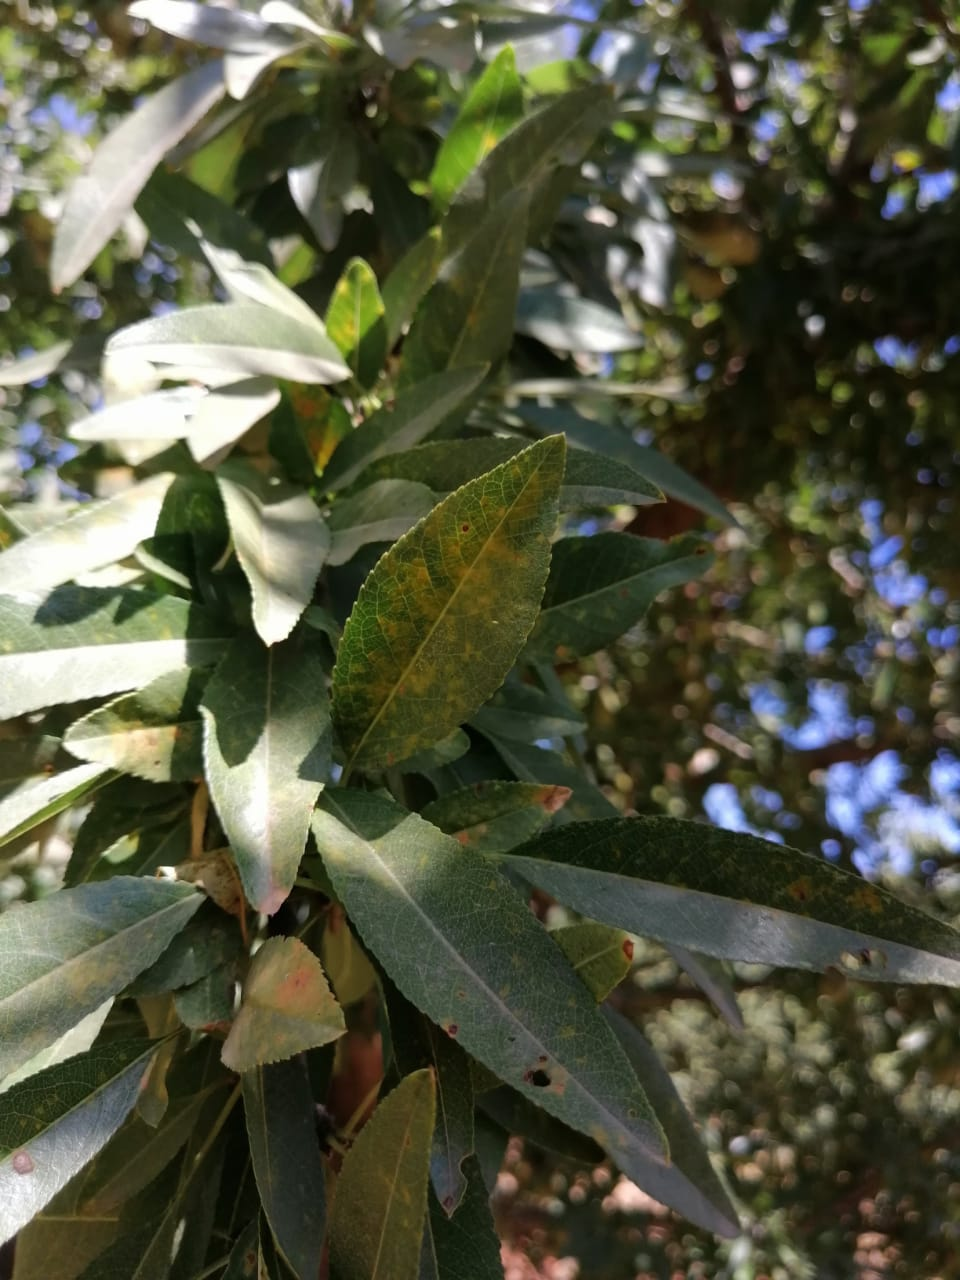rouille: (310, 790, 672, 1165), (330, 430, 568, 777), (506, 822, 960, 985), (1, 1042, 160, 1241)
